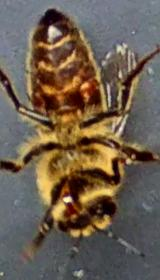varroa_mite: (70, 69, 110, 110)
